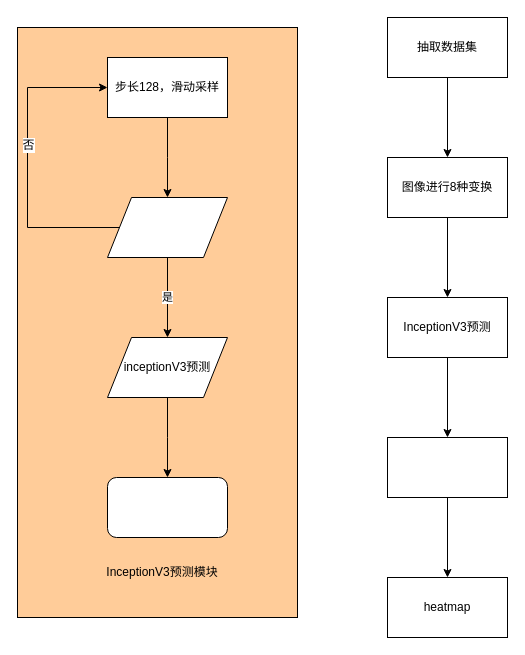
This 525x655 diagram has some shape labels left out. The shapes that lost their labels are listed below. From the top down, each one's box as (x1, y1, x2, y2) in pixels, then its label:
(106, 196, 228, 258): 是否包含组织区域
(386, 436, 508, 498): 概率平均
(106, 476, 228, 538): 1/128 heatmap
